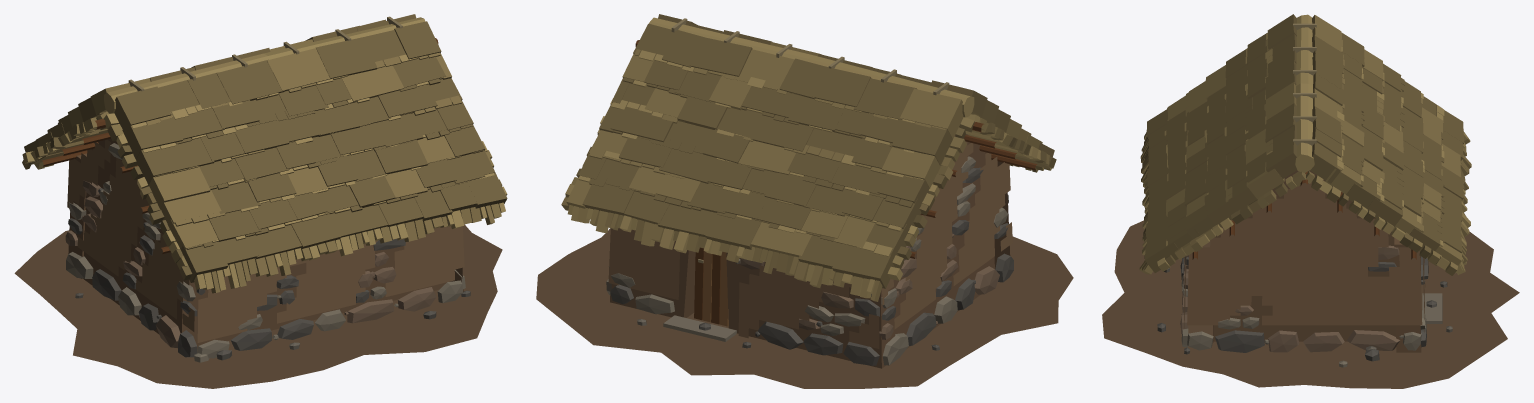
The model's file is pch_house_c.glb.
3 views of the same model, side by side, from view 1: azimuth 30°, elevation 25°; view 2: azimuth 150°, elevation 25°; view 3: azimuth 270°, elevation 25° (orthographic). The views are drawn at different scales.
Parts seen in each view (by area): view 1: pch_house_c; view 2: pch_house_c; view 3: pch_house_c.
Part boxes in pixels (x1,y1,x2,y2): pch_house_c: (14, 14, 507, 388); pch_house_c: (536, 14, 1073, 388); pch_house_c: (1102, 14, 1519, 388).
Size of what is drawn, in the model's own units: 7.76 by 3.95 by 7.06.
